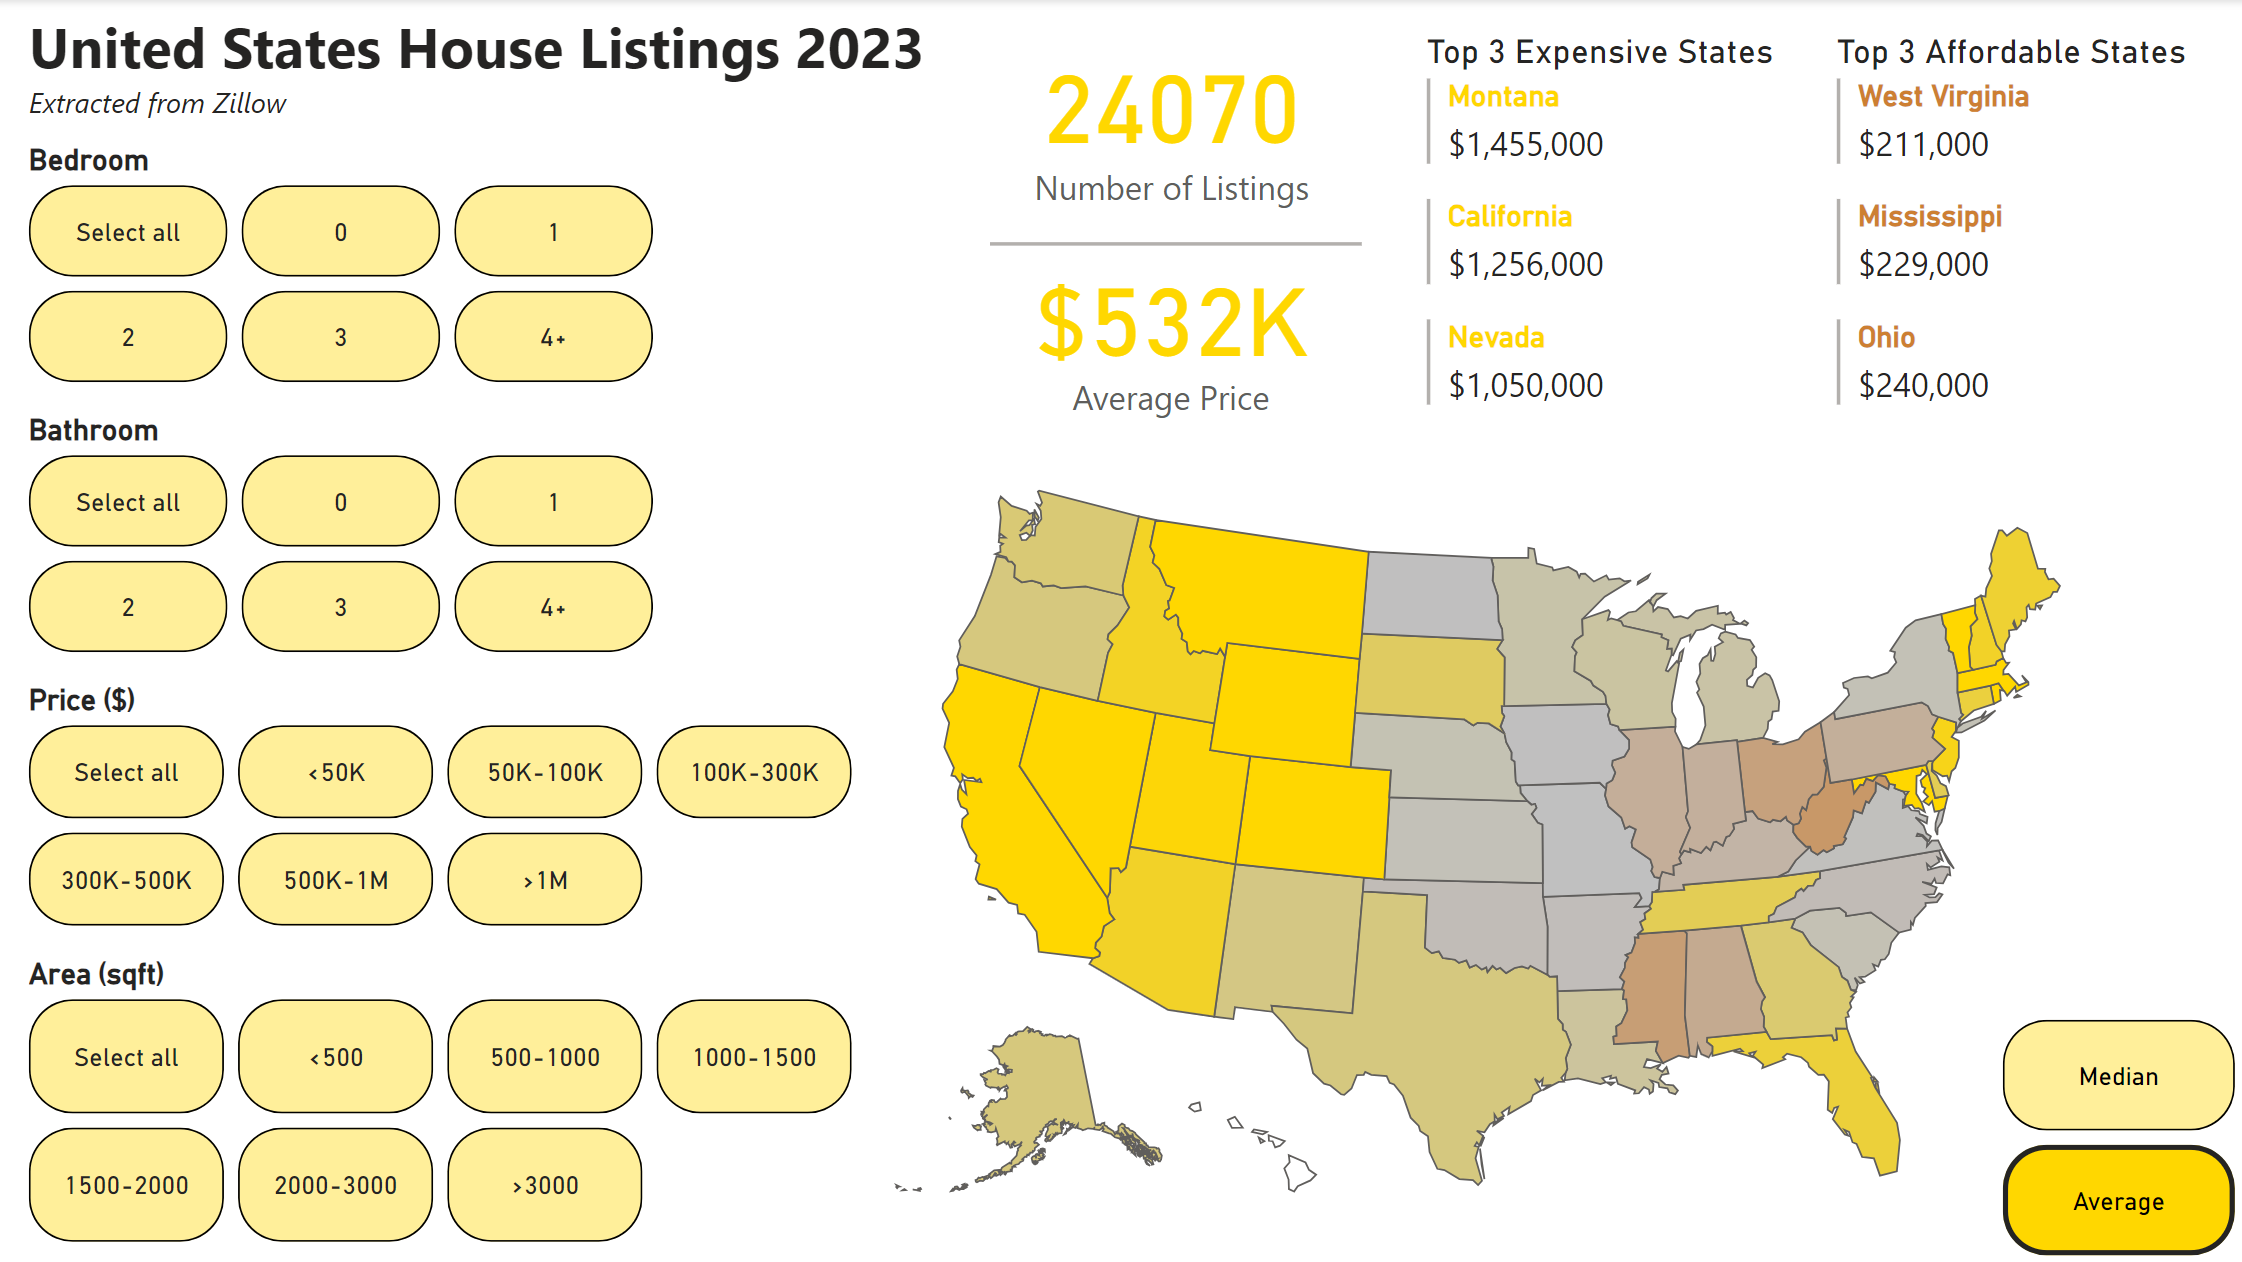

What the dashboard file says about the page in this screenshot:
{"tool":"powerbi","page":{"name":"Main","canvas":[1280,720],"ordinal":0},"visuals":[{"type":"multiRowCard","title":"Top 3 Expensive States","fields":{"Values":["cleaned_df.State Name","cleaned_df.Avg/Med Price"]},"box":[810,18.6,214.3,240],"z":0},{"type":"card","fields":{"Values":["cleaned_df.Avg/Med Price"]},"box":[562.4,123.8,215.7,127.5],"z":0,"group":"g3"},{"type":"multiRowCard","title":"Top 3 Affordable States","fields":{"Values":["cleaned_df.State Name","cleaned_df.Avg/Med Price"]},"box":[1042.9,18.6,214.3,240],"z":1000},{"type":"card","fields":{"Values":["cleaned_df.Avg/Med Title"]},"box":[562.4,212.7,214.8,31.7],"z":1000,"group":"g1"},{"type":"advancedSlicerVisual","title":"Price ($)","fields":{"Values":["cleaned_df.Price Class"]},"box":[14.8,389,494.8,143.3],"z":2000},{"type":"advancedSlicerVisual","fields":{"Values":["cleaned_df.Bedroom Class"]},"box":[14.3,81.4,365.7,142.9],"z":3000},{"type":"advancedSlicerVisual","fields":{"Values":["cleaned_df.Bathroom Class"]},"box":[14.3,235.7,365.7,142.9],"z":4000},{"type":"advancedSlicerVisual","fields":{"Values":["cleaned_df.Area Class"]},"box":[14.8,544.8,494.8,168.3],"z":5000},{"type":"card","fields":{"Values":["CountNonNull(cleaned_df.Price)"]},"box":[562.4,4.3,215.7,127.1],"z":6000,"group":"g2"},{"type":"shapeMap","fields":{"Value":["cleaned_df.Avg/Med Price"],"Category":["cleaned_df.State Name"]},"box":[470,252.9,748.6,452.9],"z":6000},{"type":"textbox","box":[14.3,0,532.9,85.7],"z":7000},{"type":"group","id":"g1","title":"Group 1","box":[562.4,61.1,215.7,190.2],"z":8000,"group":"g2"},{"type":"advancedSlicerVisual","fields":{"Values":["Calculation Methods.Cal Method"]},"box":[1137.1,575.7,142.9,144.3],"z":8000},{"type":"group","id":"g2","title":"Group 3","box":[562.4,4.3,215.7,246.9],"z":9000},{"type":"group","id":"g3","title":"Group 2","box":[562.4,61.1,215.7,190.2],"z":11001,"group":"g1"},{"type":"shape","box":[566.7,61.1,211.4,155.7],"z":11001,"group":"g3"}]}

Visuals, with their boxes in screenshot pixels (x1, y1, x2, y2), scaled from the page's 1280x720 canvas onto the 2242x1262 screenshot:
"Top 3 Expensive States" multiRowCard: 1419,33,1794,453
card - cleaned_df.Avg/Med Price: 985,217,1363,440
"Top 3 Affordable States" multiRowCard: 1827,33,2202,453
card - cleaned_df.Avg/Med Title: 985,373,1361,428
"Price ($)" advancedSlicerVisual: 26,682,893,933
advancedSlicerVisual - cleaned_df.Bedroom Class: 25,143,666,393
advancedSlicerVisual - cleaned_df.Bathroom Class: 25,413,666,664
advancedSlicerVisual - cleaned_df.Area Class: 26,955,893,1250
card - CountNonNull(cleaned_df.Price): 985,8,1363,230
shapeMap - cleaned_df.Avg/Med Price x cleaned_df.State Name: 823,443,2134,1237
textbox: 25,0,958,150
"Group 1" group: 985,107,1363,440
advancedSlicerVisual - Calculation Methods.Cal Method: 1992,1009,2241,1261
"Group 3" group: 985,8,1363,440
"Group 2" group: 985,107,1363,440
shape: 993,107,1363,380
